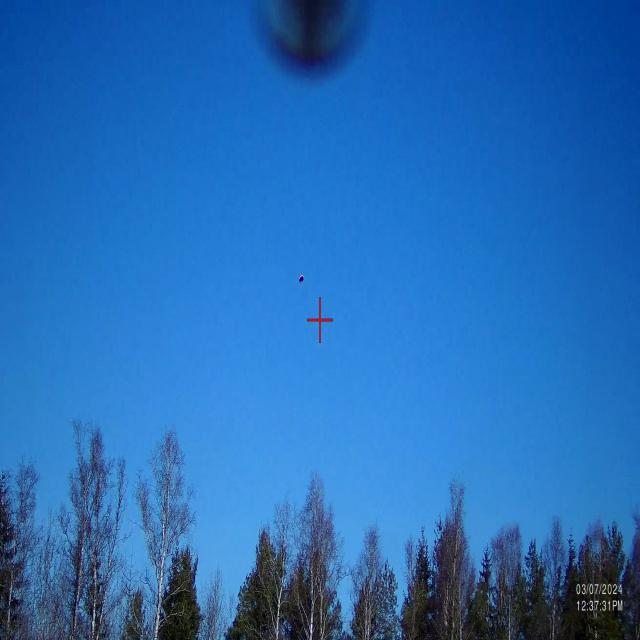entire: (296, 265, 309, 292)
